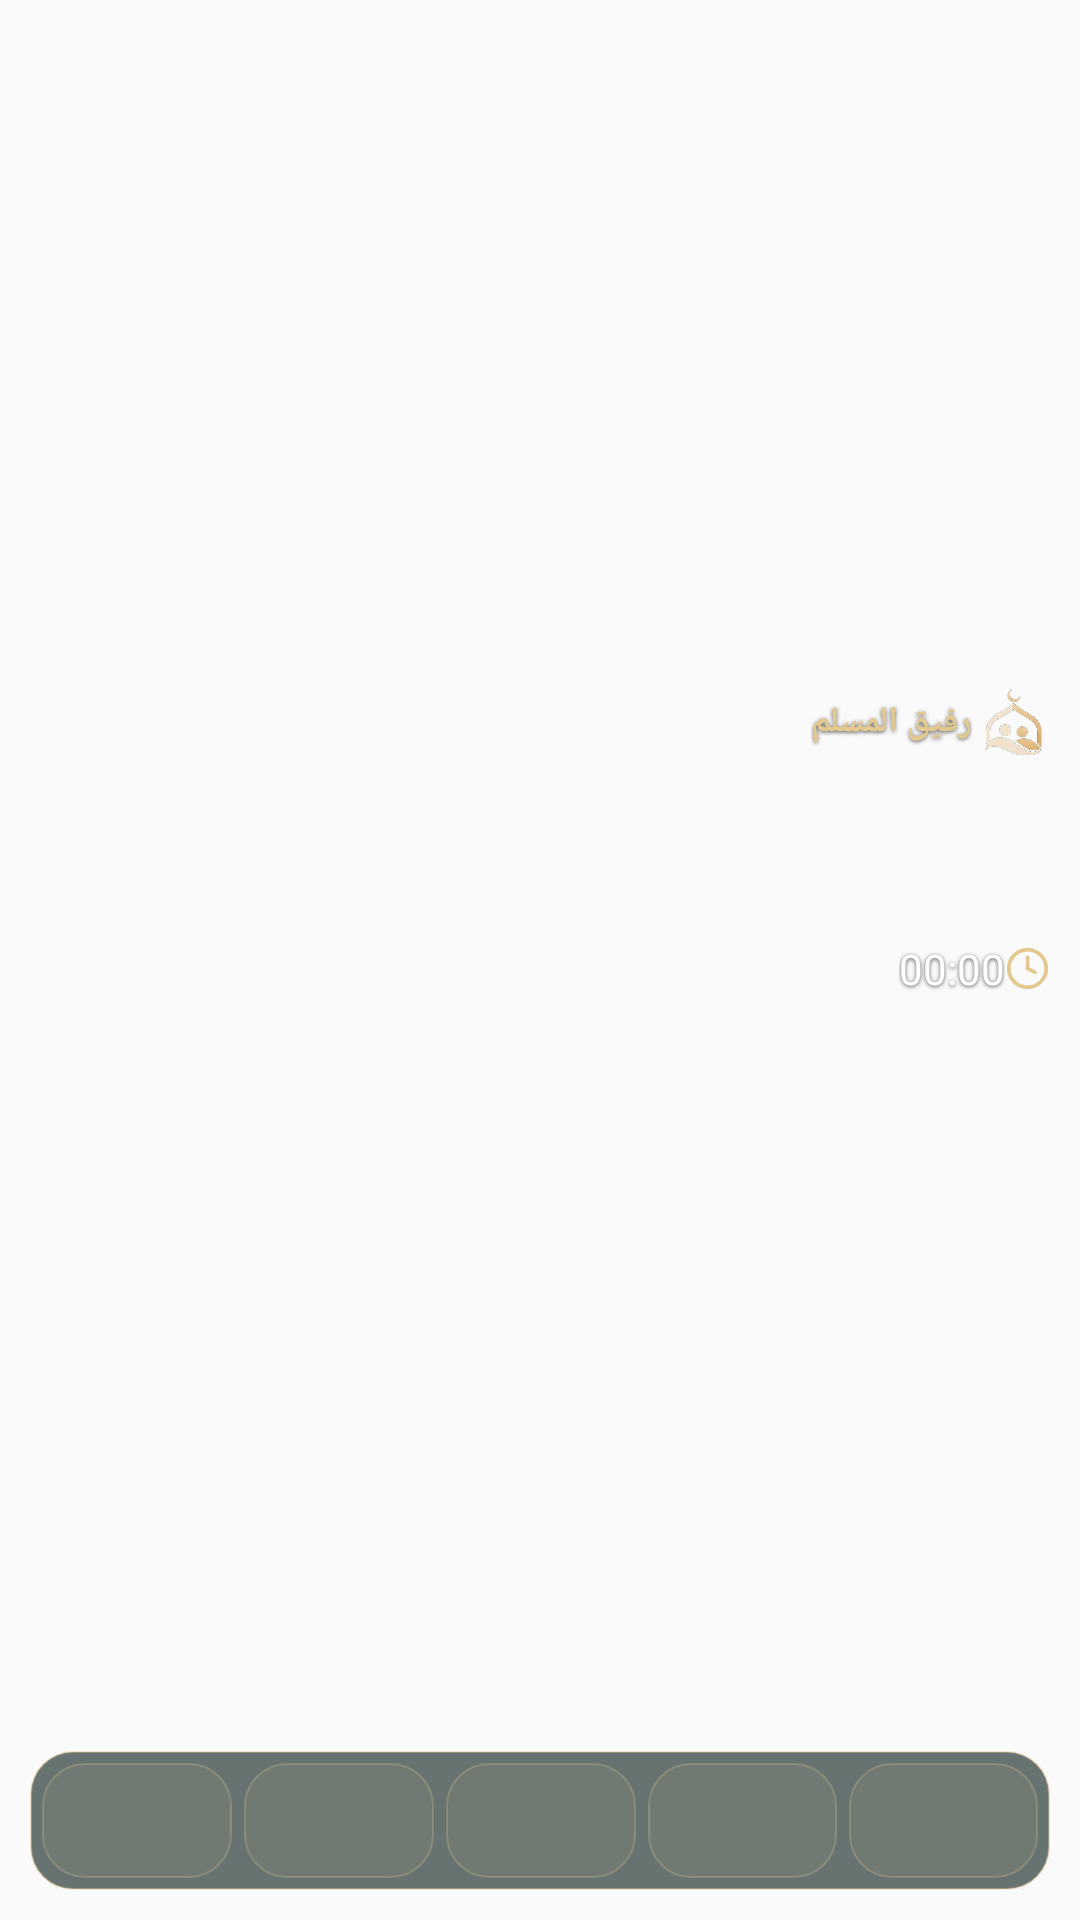

Icon click points for this 1080px x 1920px phone screenshot, format (x,y):
clock: (1027,968)
